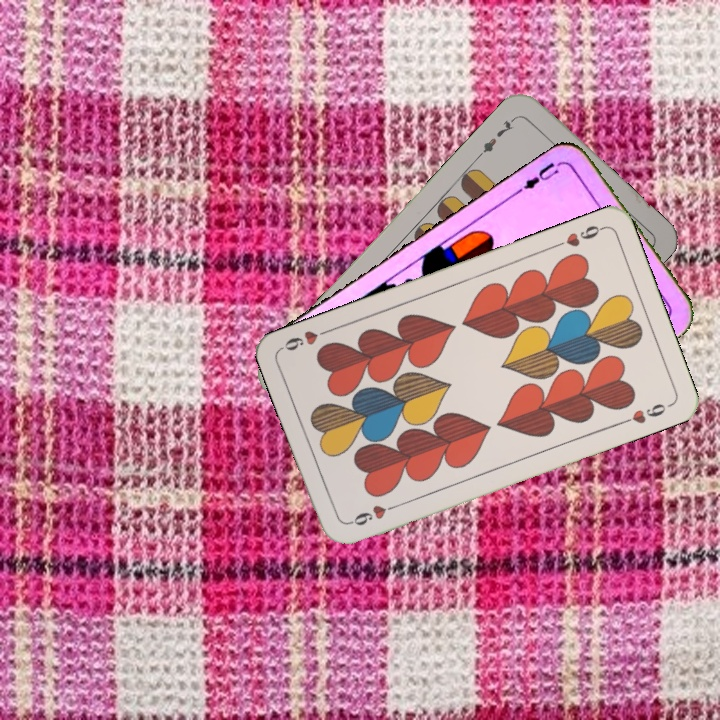E7: (474, 112, 519, 160)
EU: (514, 156, 568, 195)
H9: (550, 221, 607, 250), (344, 500, 401, 529)
